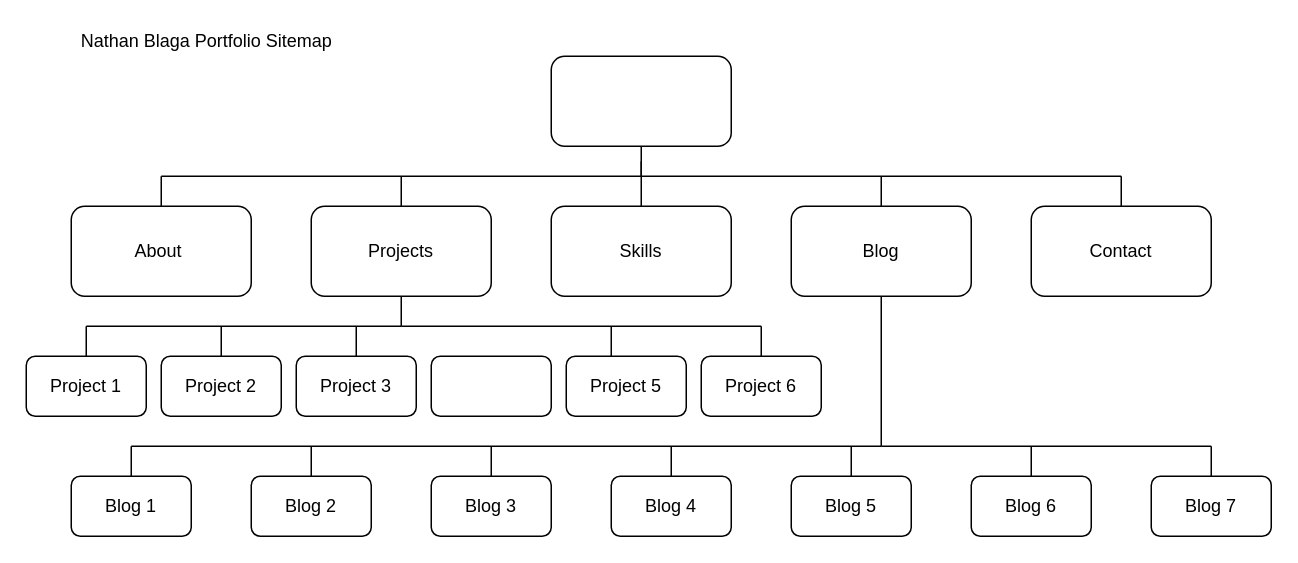
Image size: 1298x563. Some labels were removed from this diagram. The box of each missing label's shape, as (x1, y1, x2, y2) in pixels:
Nathan Blaga: (550, 55, 731, 146)
Project 4: (430, 355, 551, 416)
